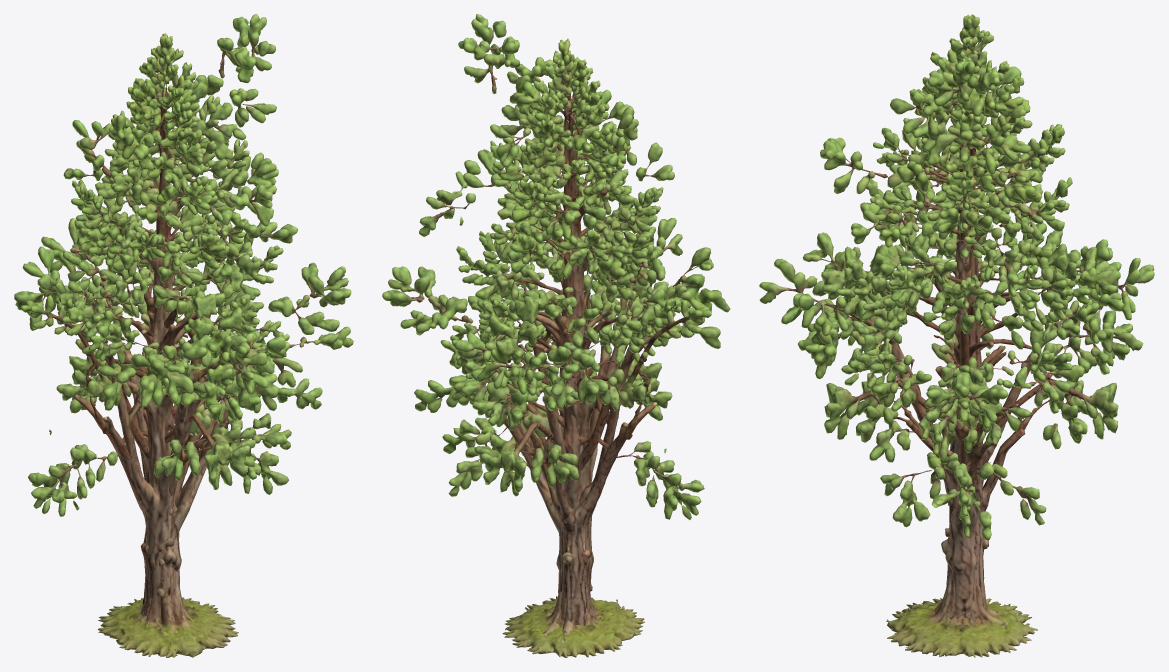
File: tree2_lods.glb
3 views of the same model, side by side, from view 1: azimuth 30°, elevation 25°; view 2: azimuth 150°, elevation 25°; view 3: azimuth 270°, elevation 25° (orthographic). The views are drawn at different scales.
Parts seen in each view (by area): view 1: tree2_2_lod0, tree2_0_lod0, tree2_1_lod0; view 2: tree2_0_lod0, tree2_2_lod0, tree2_1_lod0; view 3: tree2_0_lod0, tree2_2_lod0, tree2_1_lod0.
Part boxes in pixels (<box>): tree2_2_lod0: <box>14,14,353,652</box>; tree2_0_lod0: <box>21,33,288,615</box>; tree2_1_lod0: <box>49,36,289,657</box>; tree2_0_lod0: <box>448,40,711,626</box>; tree2_2_lod0: <box>382,14,730,648</box>; tree2_1_lod0: <box>450,38,690,657</box>; tree2_0_lod0: <box>797,14,1143,611</box>; tree2_2_lod0: <box>759,49,1154,624</box>; tree2_1_lod0: <box>832,14,1099,657</box>.
Size of what is drawn, in the model's own units: 0.5764 by 1 by 0.5813.
Materials: 1 (1 with a texture image).
